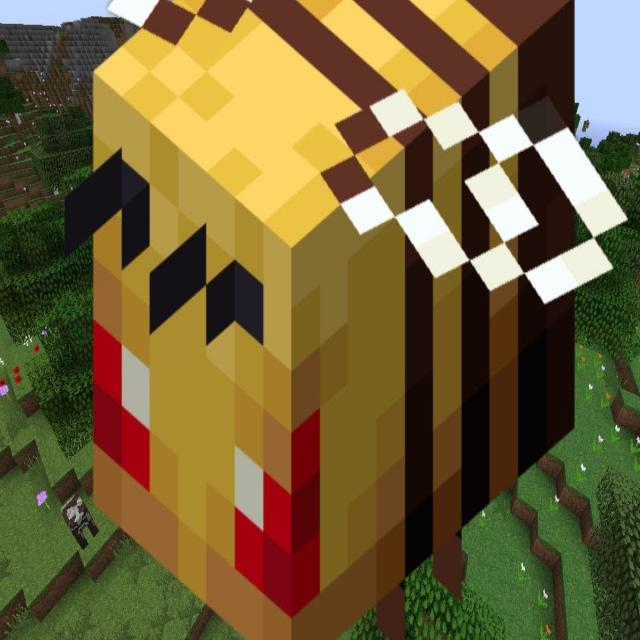Bee: (60, 0, 630, 640)
